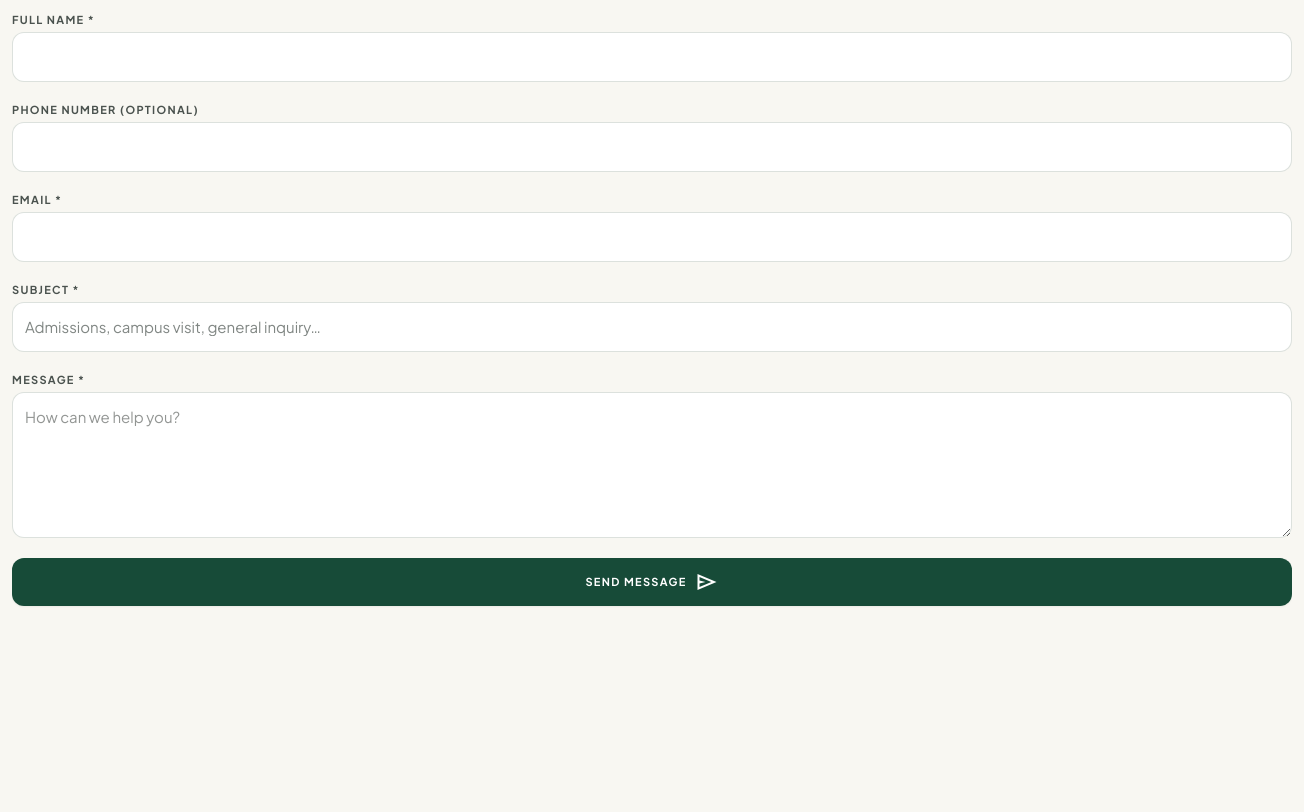
it: ContactMessageForm › shows client validation for invalid email and does not submit
Type "Test User" into the field labelled "Full Name *" at [652, 57], box [12,32,1292,82]
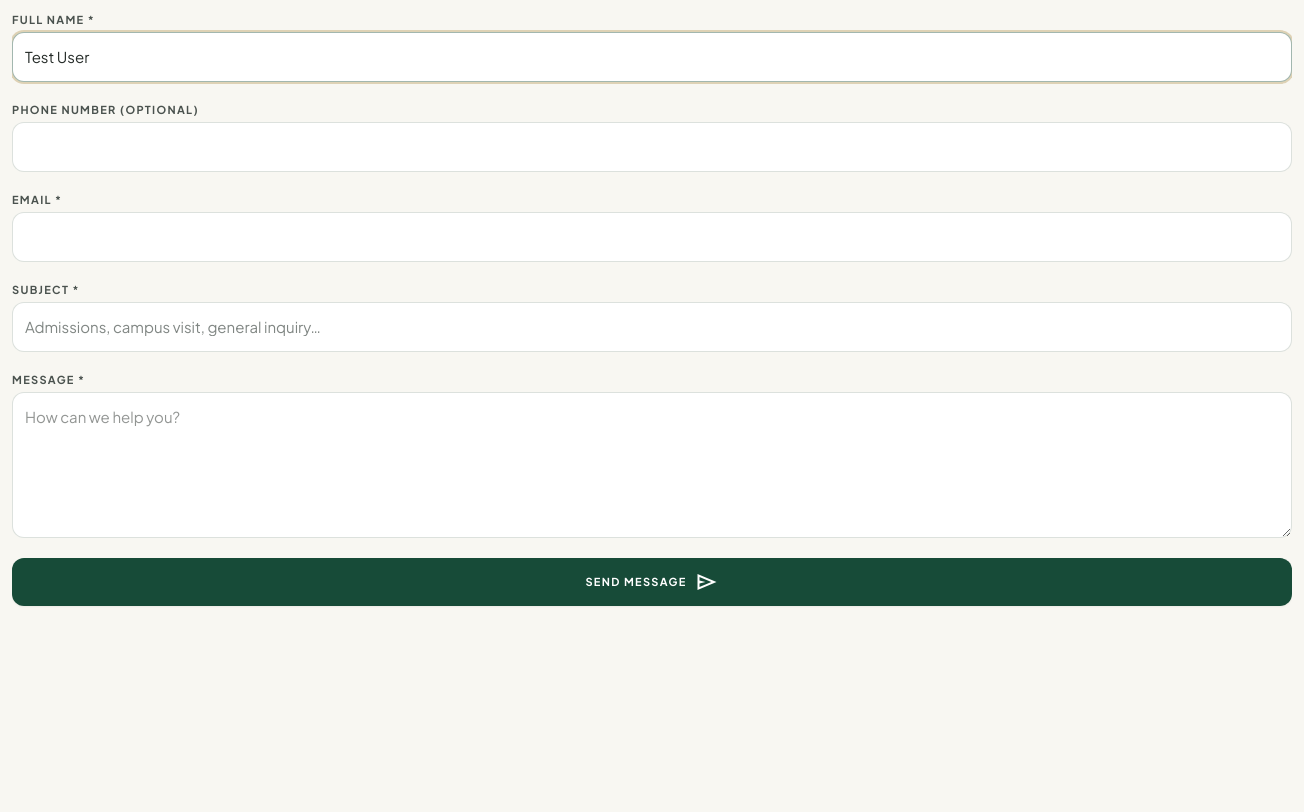
Type "not-valid" into the field labelled "Email *" at [652, 237], box [12,212,1292,262]
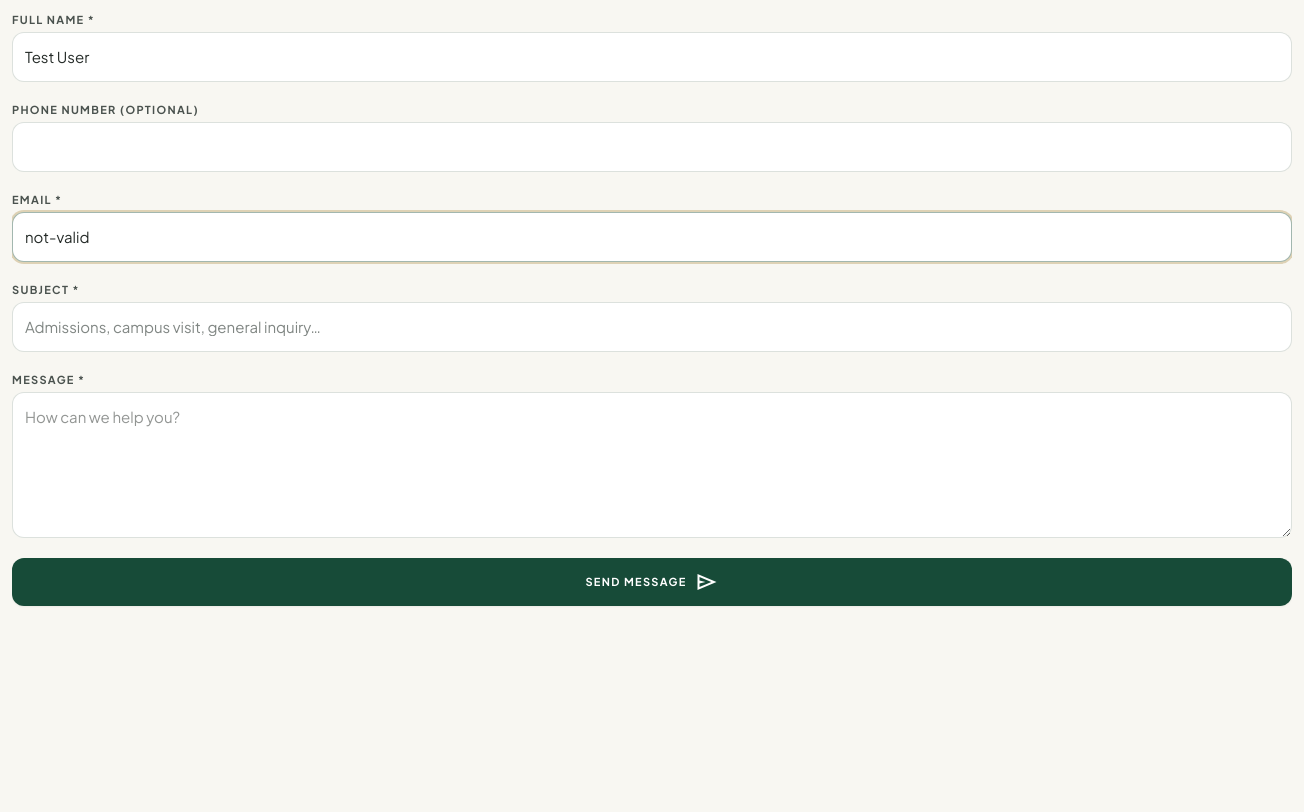
Type "Hello" into the field labelled "Subject *" at [652, 327], box [12,302,1292,352]
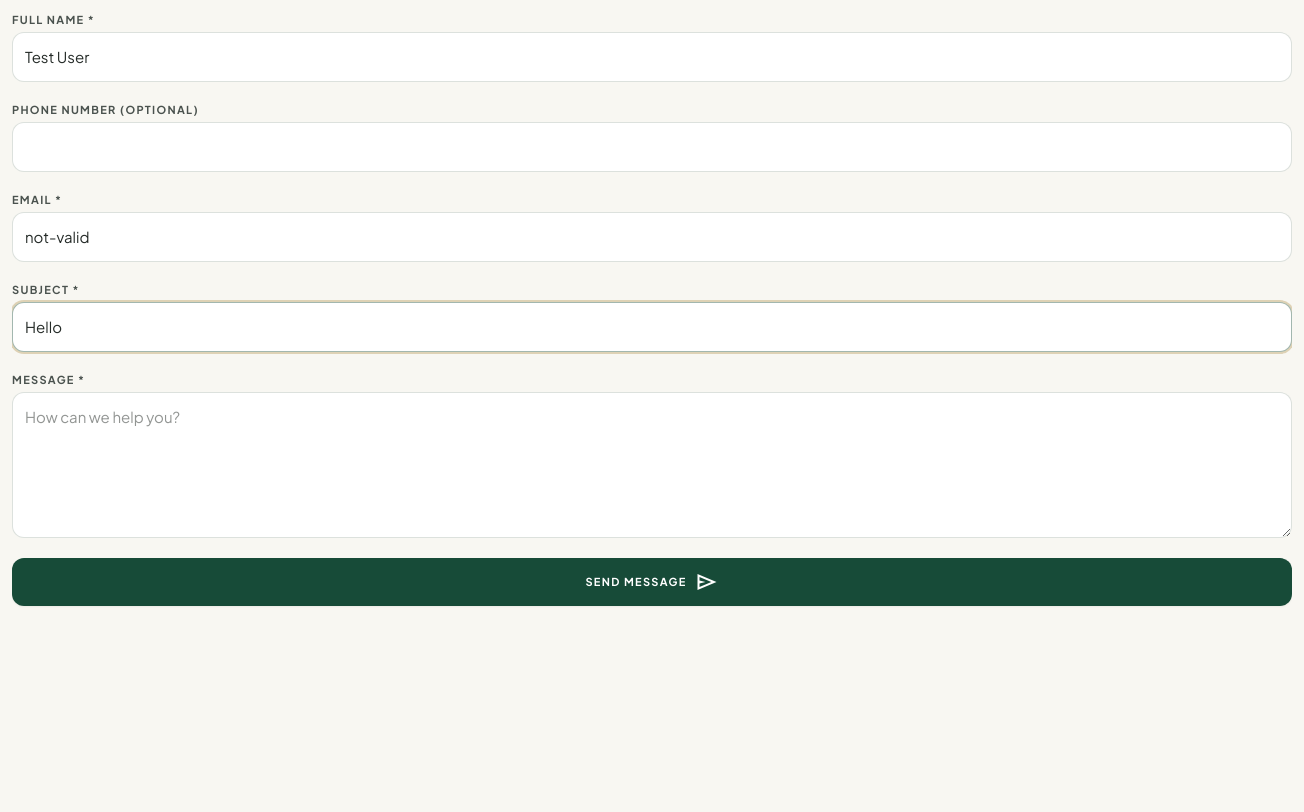
Type "Body text" into the text box labelled "Message *" at [652, 465], box [12,392,1292,538]
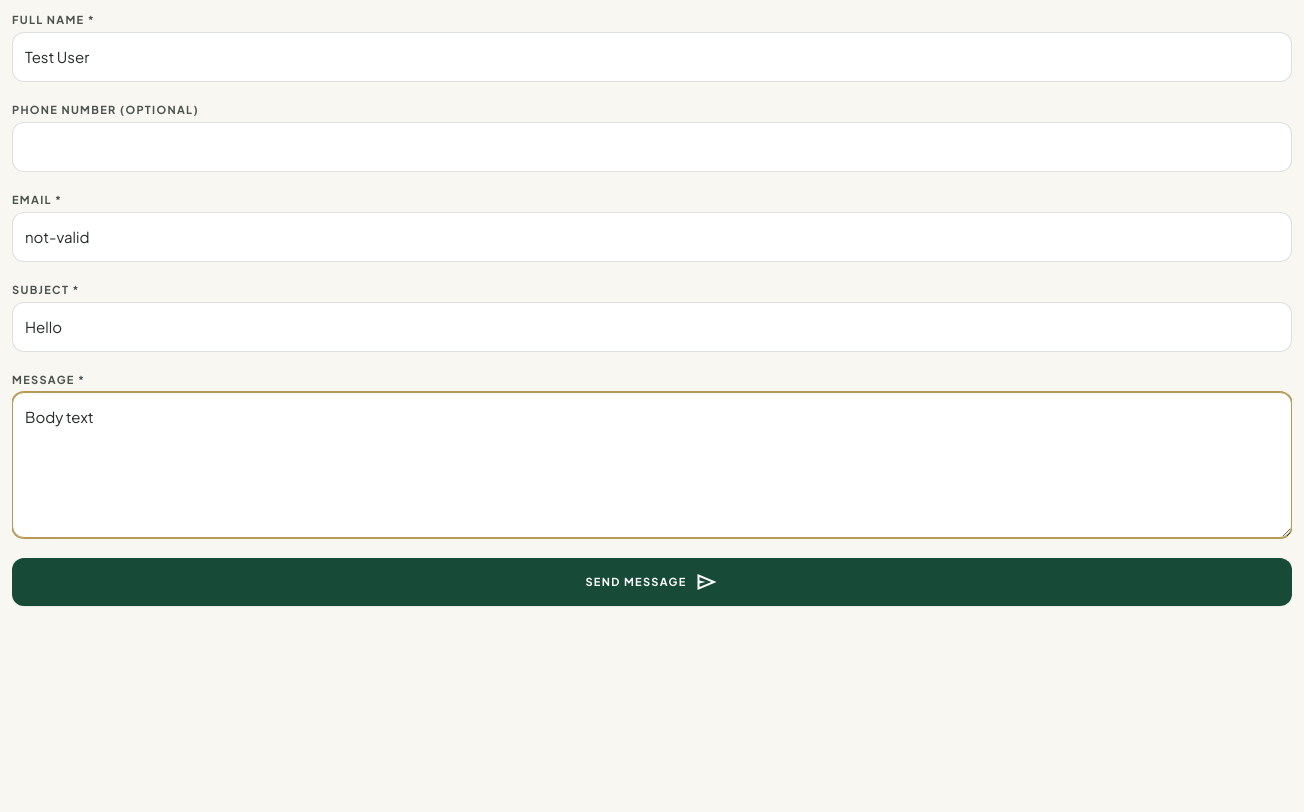
Click the button "Send Message" at [652, 582], box [12,558,1292,606]
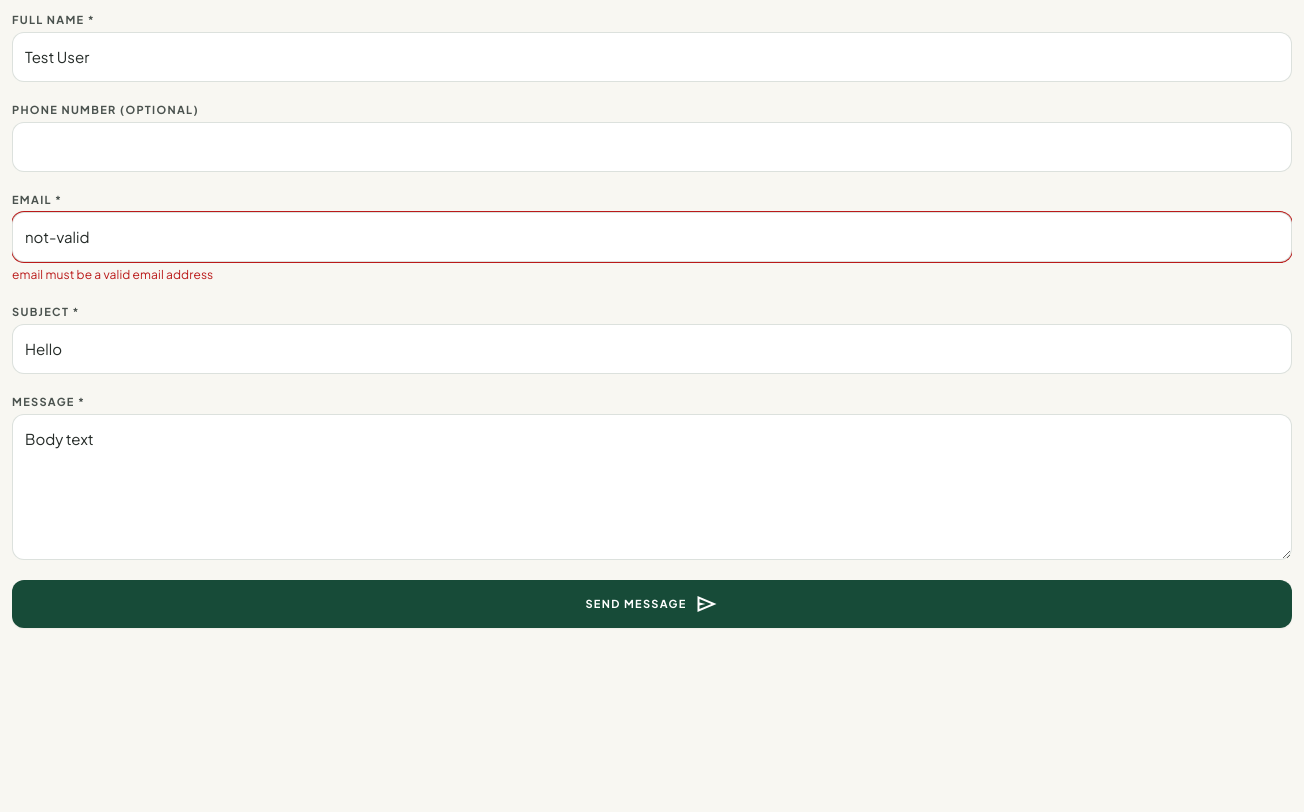
Expected: the text "email must be a valid email address" is shown, [12,267,213,282]
